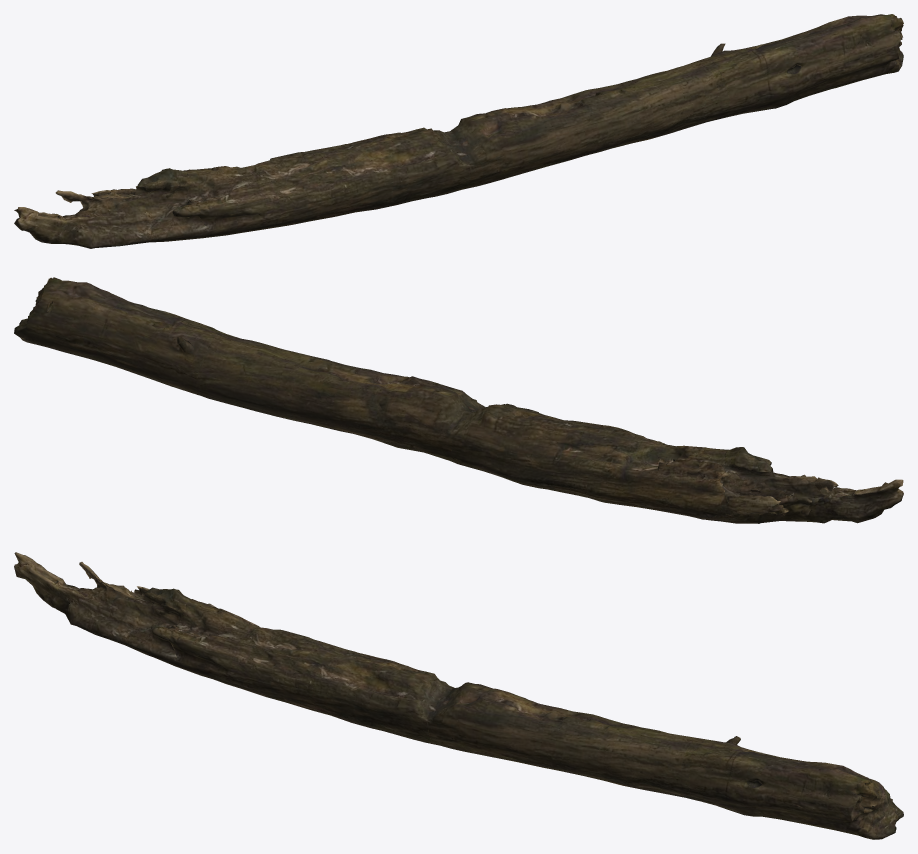
The model's file is log_dead.glb.
3 views of the same model, one above another, from view 1: azimuth 30°, elevation 25°; view 2: azimuth 150°, elevation 25°; view 3: azimuth 330°, elevation 25° (orthographic).
Parts seen in each view (by area): view 1: log_dead; view 2: log_dead; view 3: log_dead.
Boxes of the visible parts, box(x1,y1,x2,y2) form: log_dead: box(14, 14, 903, 248); log_dead: box(14, 277, 903, 523); log_dead: box(14, 552, 903, 839).
Size of the model in its own units: 3.05 by 0.2893 by 0.2768.
Materials: 1 (1 with a texture image).
